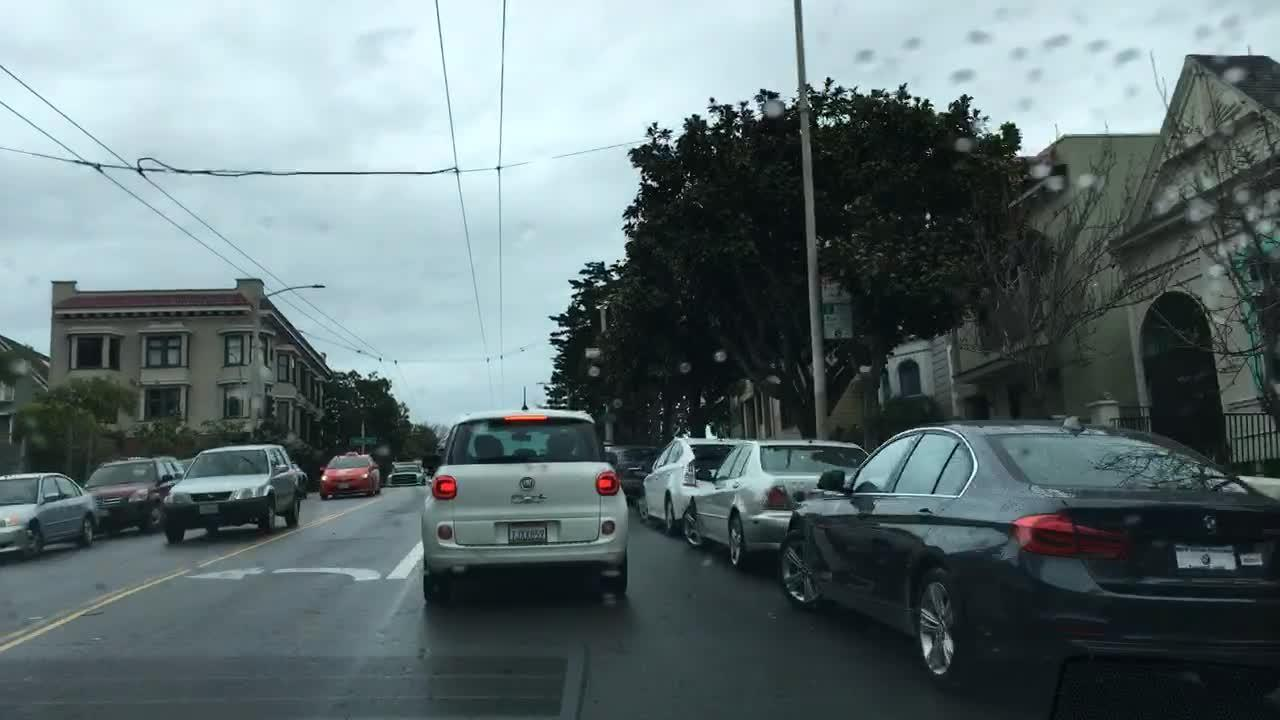bmw: (1185, 507, 1236, 542)
